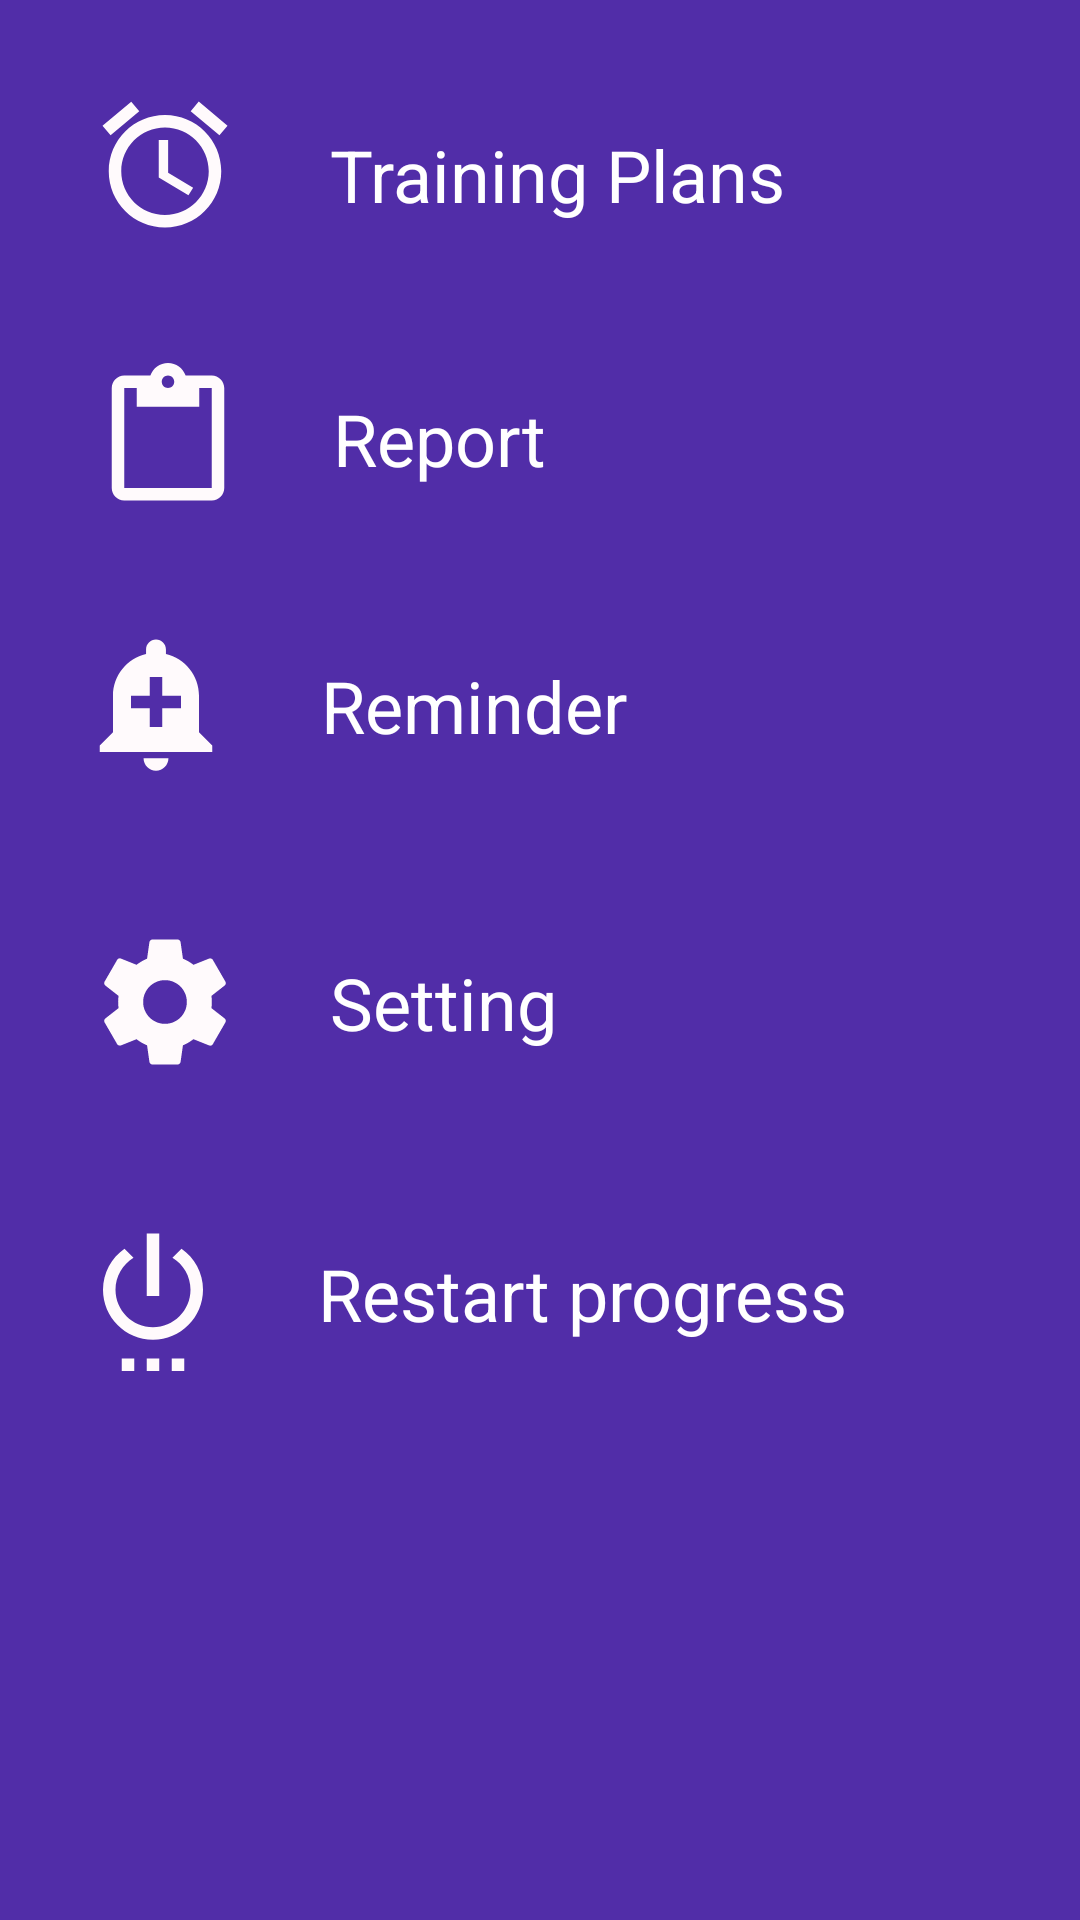

Point at icon controls on the screen. Image size 1080w x 1920h, points as (x,y).
apagado: (153,1302)
cronometro: (165,164)
engranaje: (165,1002)
recordar: (156,705)
